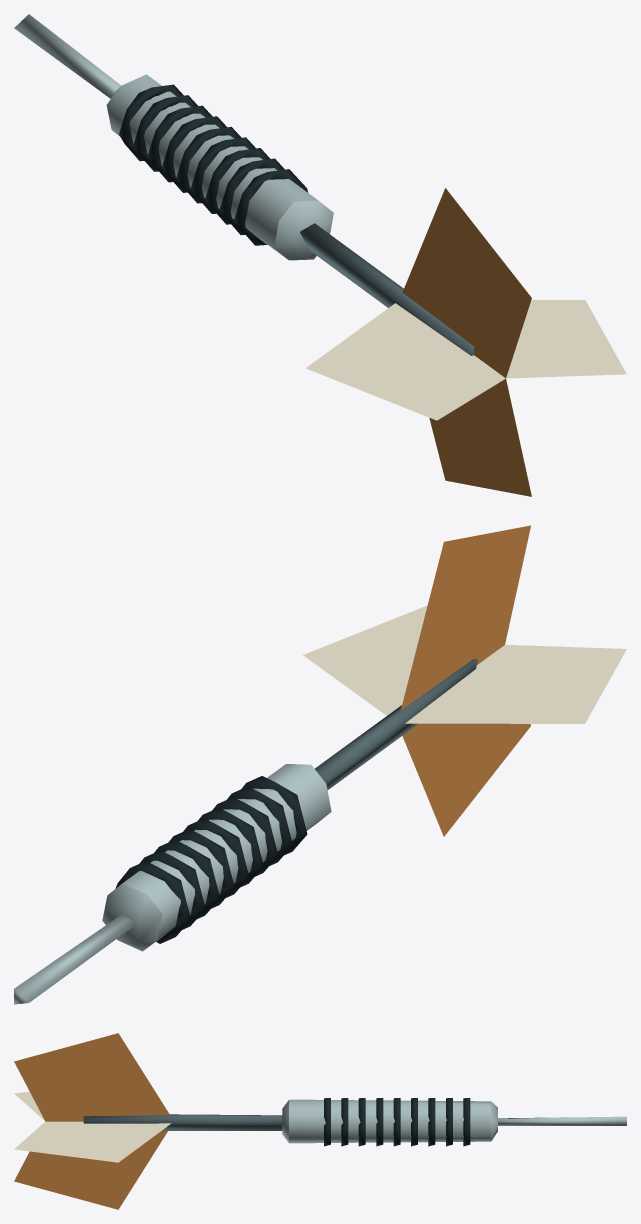
Rendered from club-dart.low.glb.
The picture shows the model from 3 angles, top to bottom: view 1: azimuth 30°, elevation 25°; view 2: azimuth 150°, elevation 25°; view 3: azimuth 270°, elevation 25°; orthographic projection. The views are drawn at different scales.
Visible parts, largest first — view 1: geometry:body:4, geometry:body:3, geometry:body:0, geometry:body:1, geometry:body:2; view 2: geometry:body:4, geometry:body:3, geometry:body:0, geometry:body:1, geometry:body:2; view 3: geometry:body:4, geometry:body:0, geometry:body:3, geometry:body:1, geometry:body:2.
Part boxes in pixels (x1,y1,x2,y2): geometry:body:4: (402, 188, 531, 496); geometry:body:3: (306, 300, 626, 420); geometry:body:0: (14, 14, 333, 260); geometry:body:1: (119, 84, 308, 245); geometry:body:2: (300, 223, 474, 355); geometry:body:4: (400, 525, 530, 836); geometry:body:3: (303, 605, 626, 723); geometry:body:0: (14, 764, 331, 1004); geometry:body:1: (115, 776, 307, 943); geometry:body:2: (315, 659, 477, 789); geometry:body:4: (14, 1033, 169, 1209); geometry:body:0: (282, 1099, 626, 1143); geometry:body:3: (14, 1091, 171, 1162); geometry:body:1: (324, 1098, 470, 1146); geometry:body:2: (83, 1114, 282, 1130).
Bounding box in the file's own units: 0.056 × 0.056 × 0.176.
